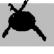not correct: (3, 0, 50, 44)
